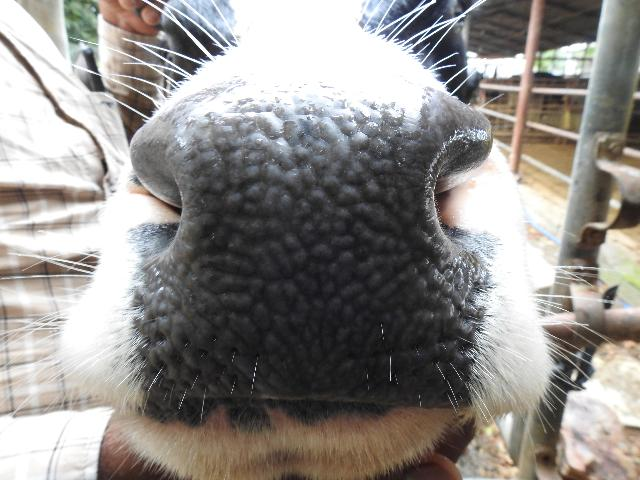Muzzle: (188, 113, 426, 395)
